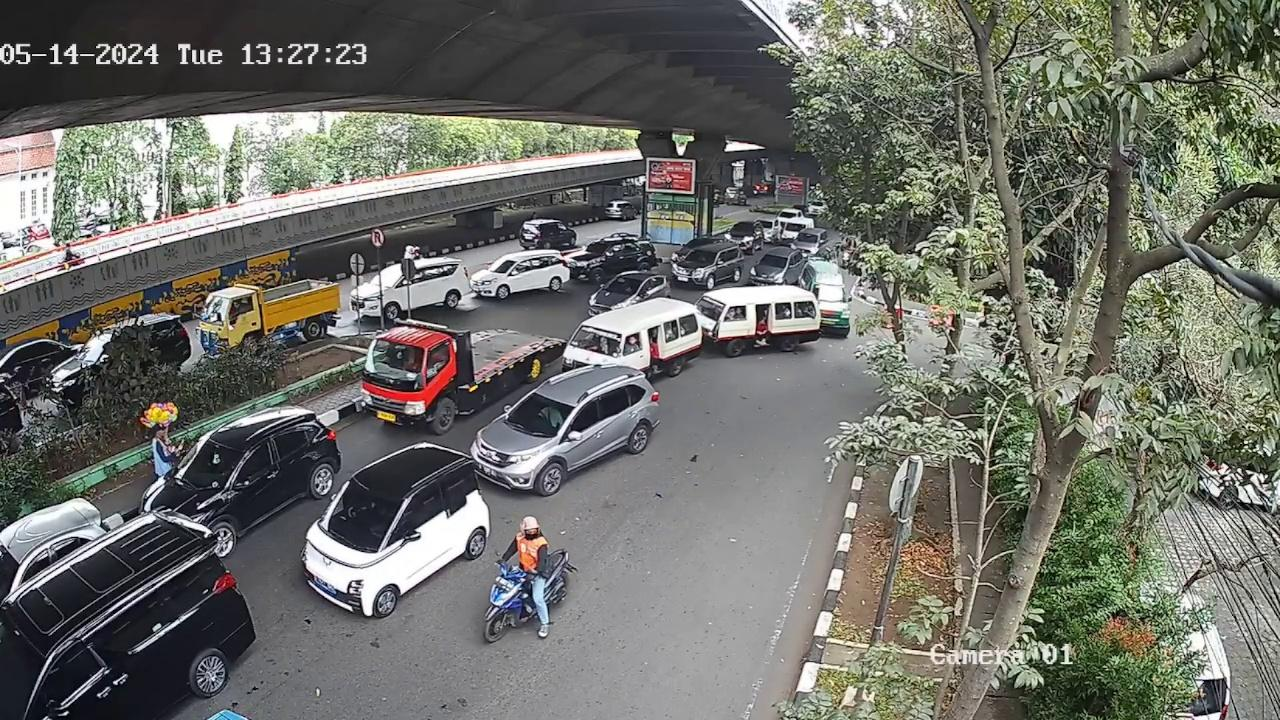pakai: (535, 402, 561, 430)
windshield: (328, 471, 406, 554), (503, 392, 580, 445), (168, 443, 245, 490), (368, 343, 434, 381), (570, 320, 623, 358)
